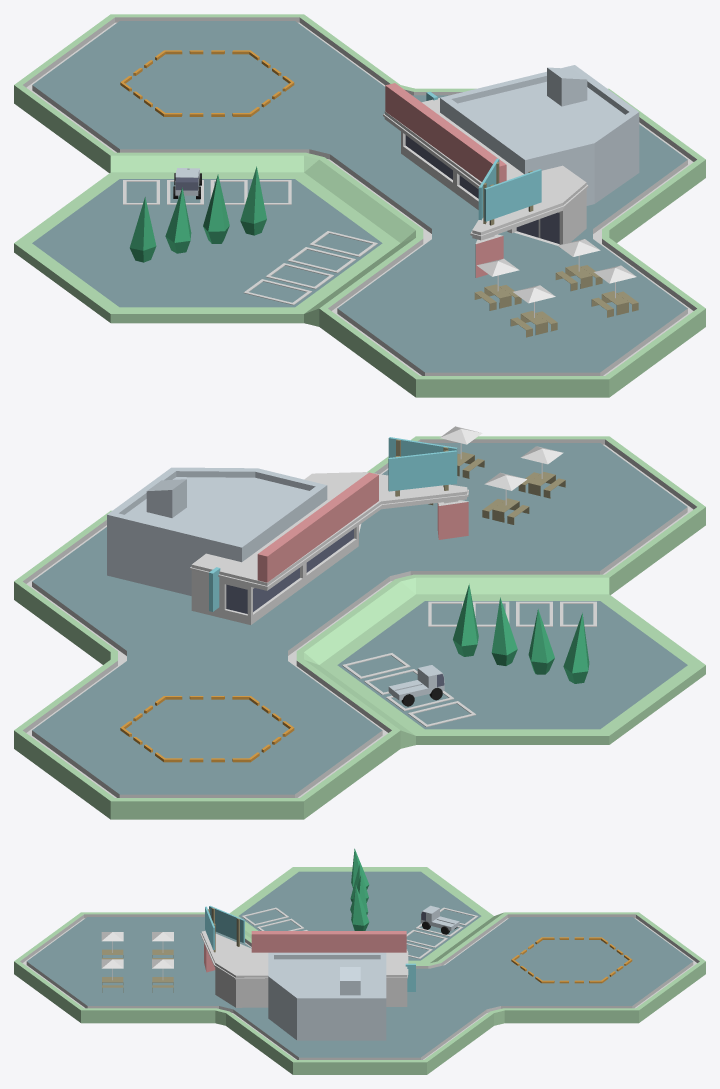
File: Role_Dealer_LV1.fbx
The picture shows the model from 3 angles, top to bottom: view 1: azimuth 30°, elevation 25°; view 2: azimuth 150°, elevation 25°; view 3: azimuth 270°, elevation 25°; orthographic projection. The views are drawn at different scales.
Visible parts, largest first — view 1: 柱体.013; view 2: 柱体.013; view 3: 柱体.013.
Part boxes in pixels (x1,y1,x2,y2): 柱体.013: (14, 14, 705, 397); 柱体.013: (14, 426, 705, 819); 柱体.013: (14, 848, 705, 1074).
Bounding box in the file's own units: 338 × 56.49 × 490.
